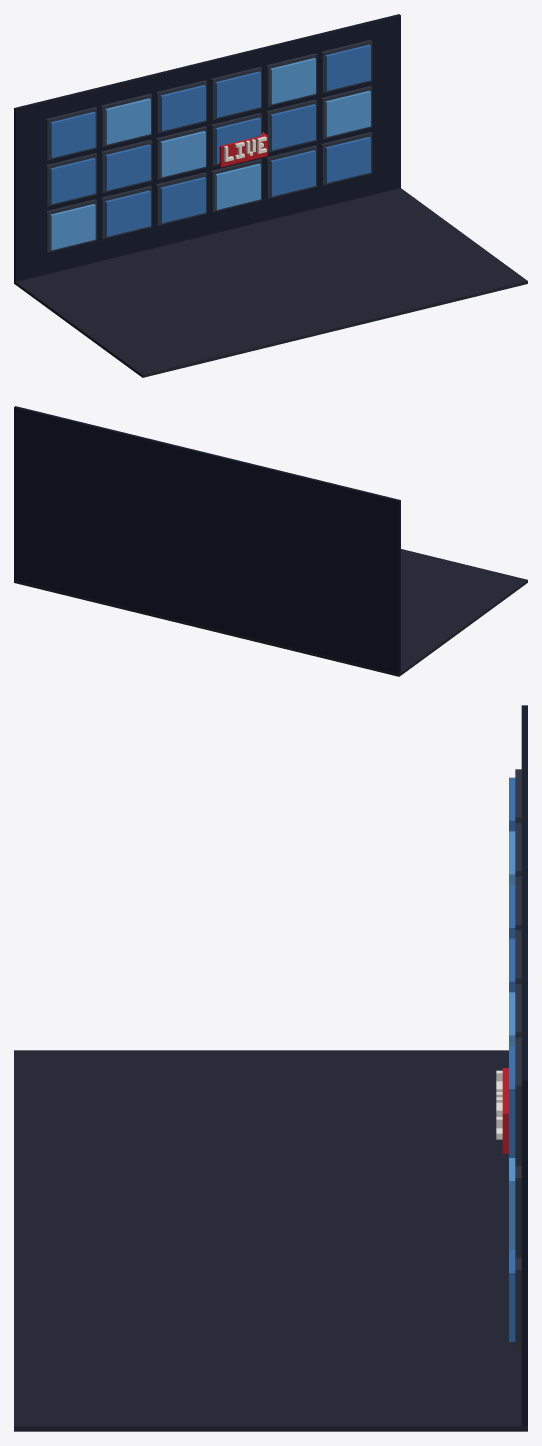
The model's file is newsroom.glb.
3 renders of one model, top to bottom at view 1: azimuth 30°, elevation 25°; view 2: azimuth 150°, elevation 25°; view 3: azimuth 270°, elevation 25°, orthographic. The views are drawn at different scales.
Parts seen in each view (by area): view 1: newsroom; view 2: newsroom; view 3: newsroom.
Boxes of the visible parts, x1,y1,x2,y2 form: newsroom: (14, 14, 527, 377); newsroom: (14, 406, 527, 676); newsroom: (14, 705, 527, 1431).
Size of the model in its own units: 14 by 6.1 by 8.1.
1 material, 1 textured.
